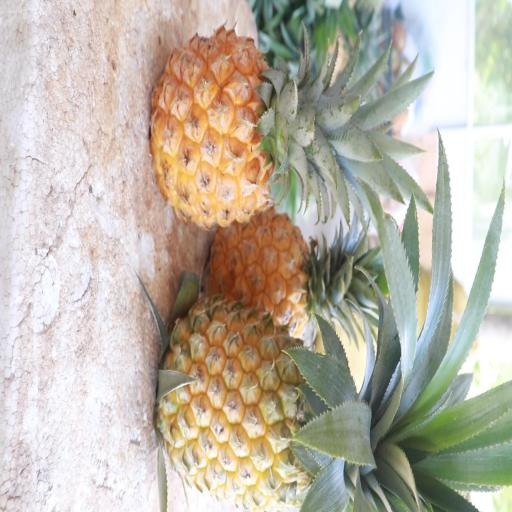Pineapple - v8 v1: (155, 293, 387, 511), (149, 19, 356, 231), (207, 206, 380, 342)
